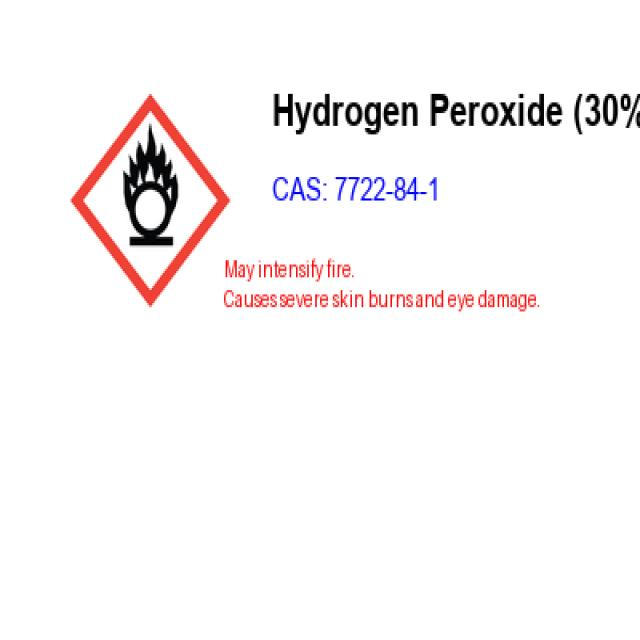cas number: (269, 177, 464, 208)
chemical name: (269, 94, 640, 147)
oxidizer: (75, 99, 217, 318)
warning text: (222, 253, 553, 332)
